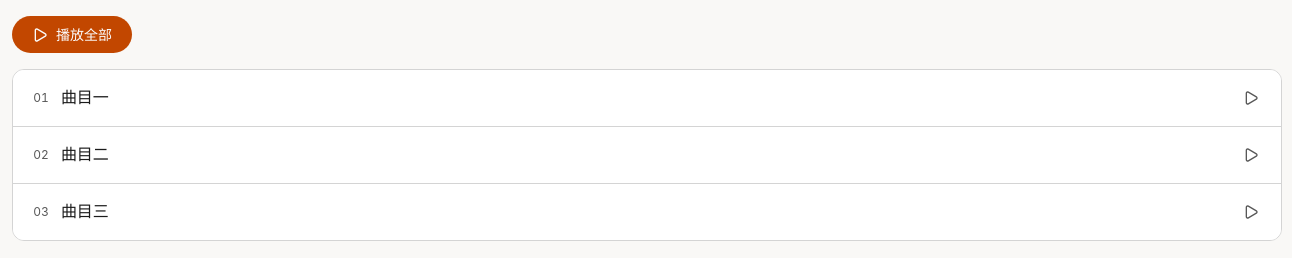
Test: AlbumTrackList 交互 › 点击曲目行按钮从该曲目起播并高亮当前行
The image size is (1292, 258).
Step 1. Click the button named "播放《曲目二》" → (1251, 155), box [1233,137,1269,173]
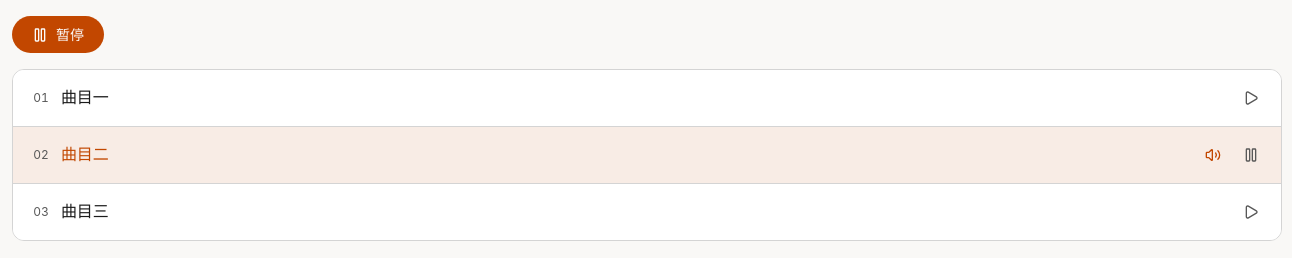
Expected: the list item "02 曲目二" is shown, [13,127,1281,184]
Expected: the icon with class "lucide-volume-2" is shown, [1205,147,1221,163]
